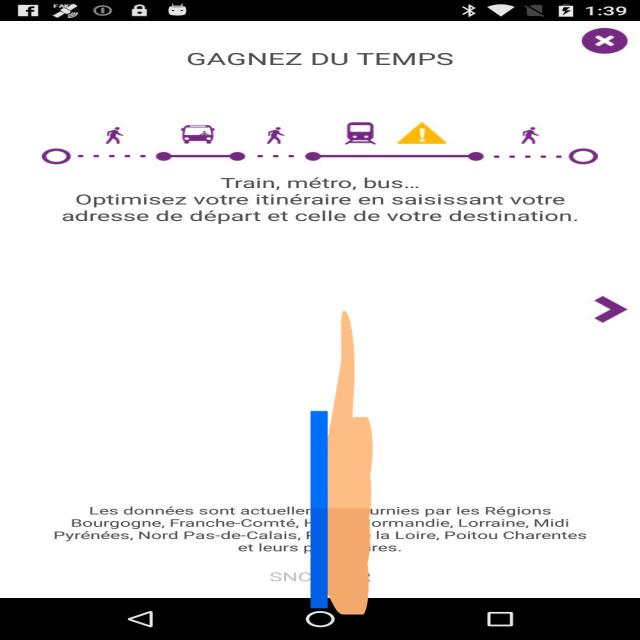privacy zuckering: (310, 303, 372, 622)
